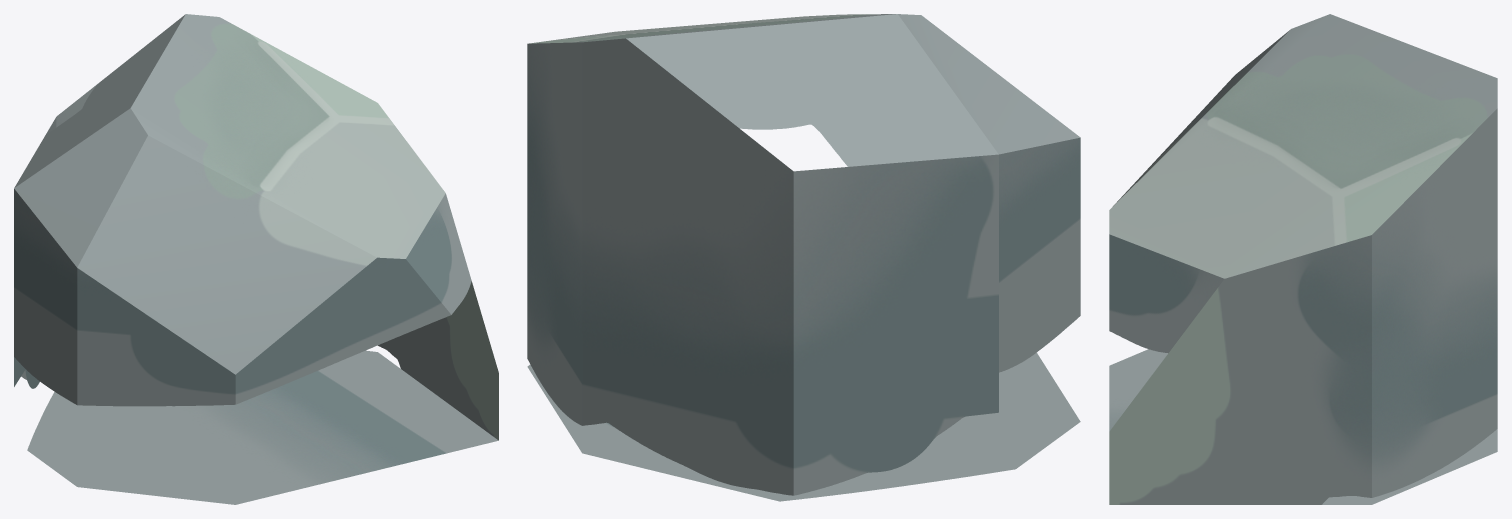
Rendered from stone_02.fbx.
The picture shows the model from 3 angles, left to right: view 1: azimuth 30°, elevation 25°; view 2: azimuth 150°, elevation 25°; view 3: azimuth 270°, elevation 25°; orthographic projection. The views are drawn at different scales.
Parts seen in each view (by area): view 1: Box143; view 2: Box143; view 3: Box143.
Part boxes in pixels (x1,y1,x2,y2): Box143: [14, 14, 498, 504]; Box143: [527, 14, 1080, 501]; Box143: [1109, 14, 1497, 504].
Size of the model in its own units: 220 by 190 by 187.
